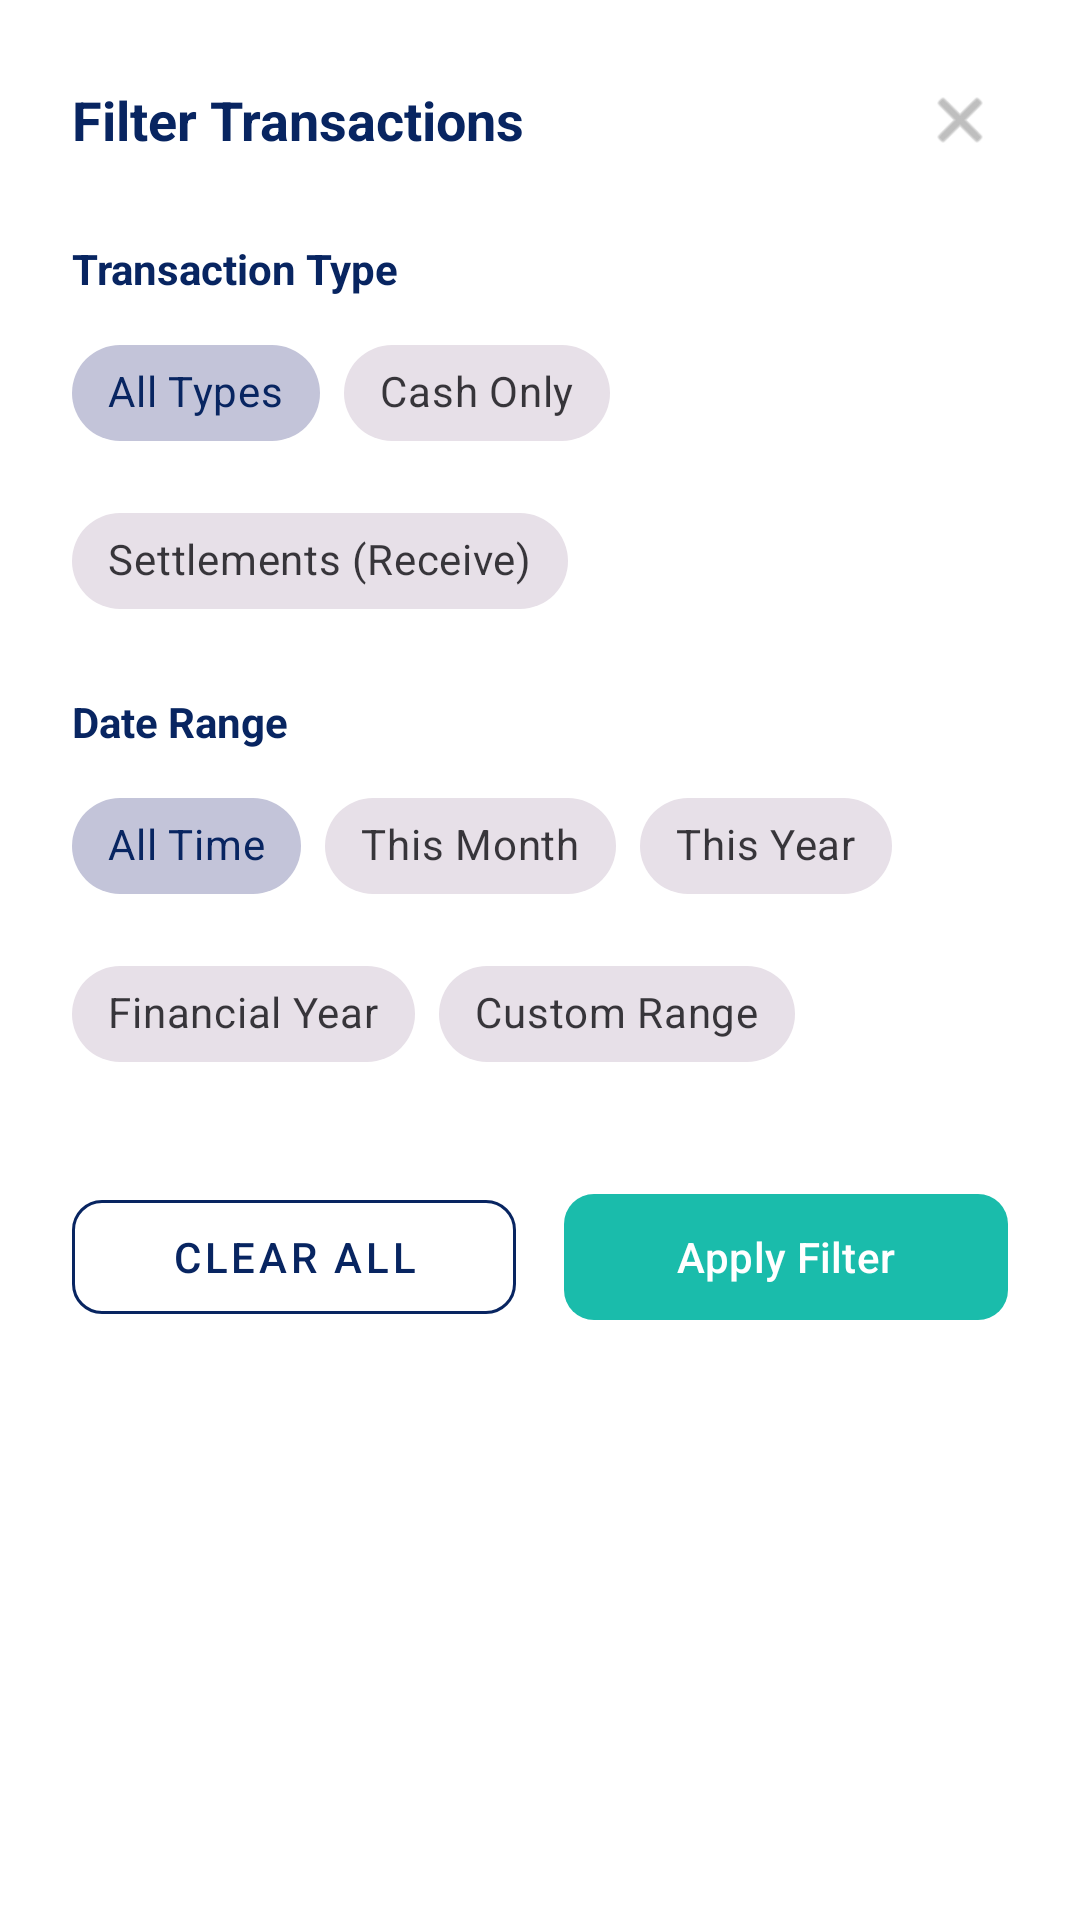

Named icons in this screenshot (1080 x 1920) and their bounding boxes, (x1, y1, x2, y2):
close clear cancel: (938, 98, 982, 142)
